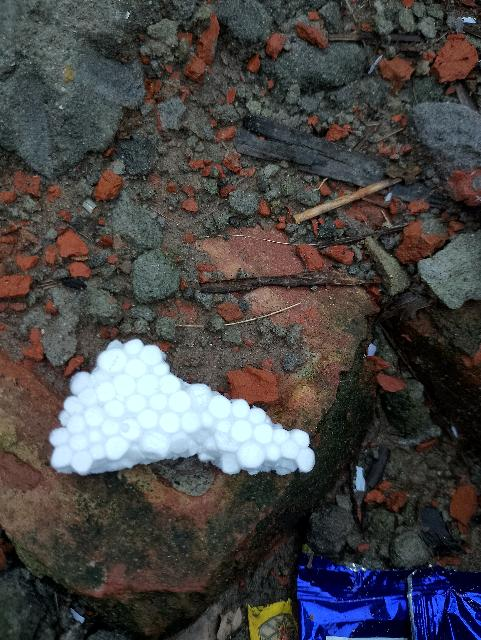cocksheet: (53, 335, 332, 470)
